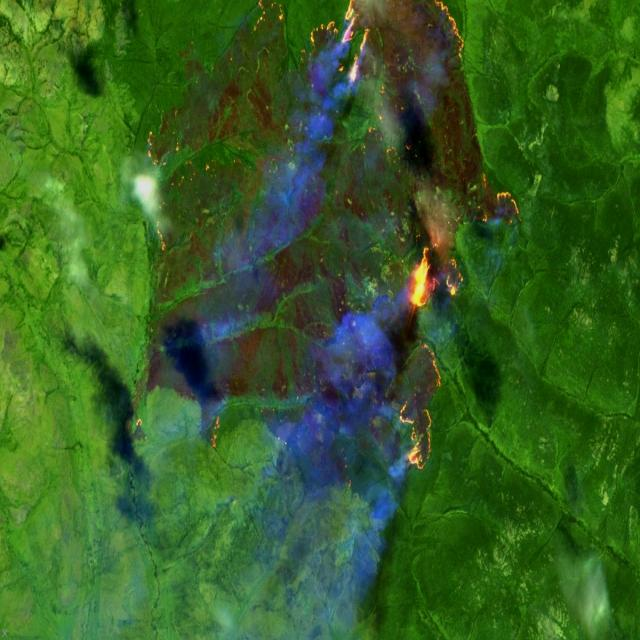fire: (252, 0, 523, 481)
